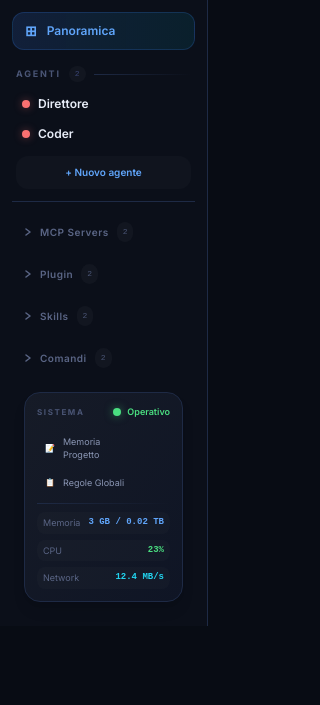
Test case: Sidebar › mostra server MCP quando espanso
Click the text "MCP Servers": (74, 232) left=40, top=224, right=109, bottom=240
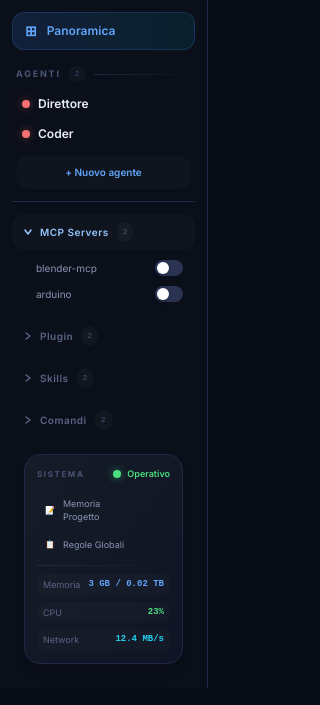
Check: the text "blender-mcp" is shown, box left=36, top=260, right=97, bottom=276
Check: the text "arduino" is shown, box left=36, top=286, right=72, bottom=302
